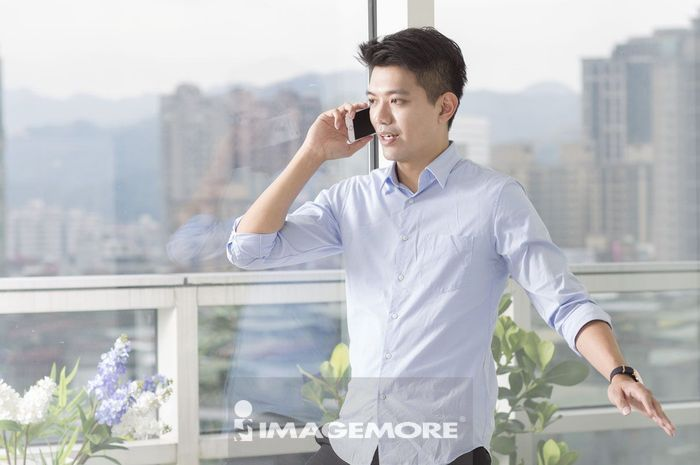phone: (344, 104, 378, 143)
talk: (296, 81, 422, 170)
